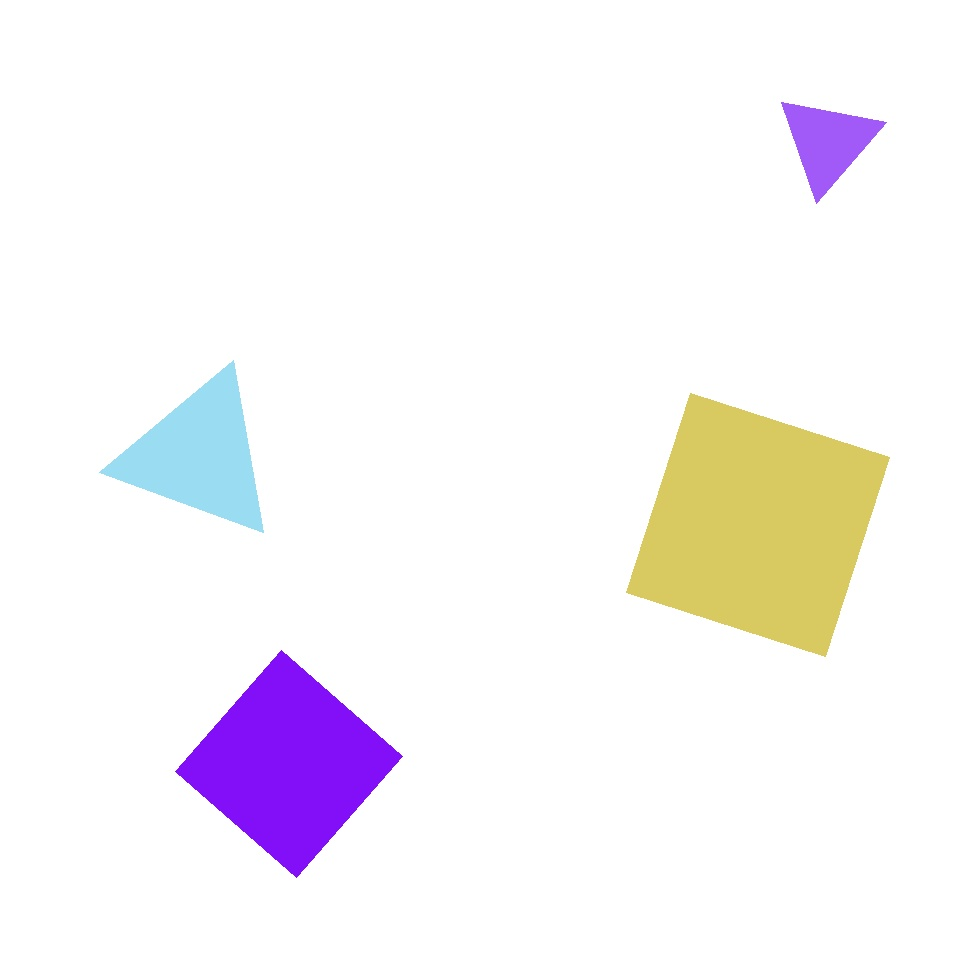circle: (564, 107, 800, 378), (117, 369, 281, 541), (776, 92, 880, 194)
square: (74, 218, 360, 503), (626, 394, 890, 656), (176, 650, 402, 878)
triangle: (74, 88, 240, 253)
